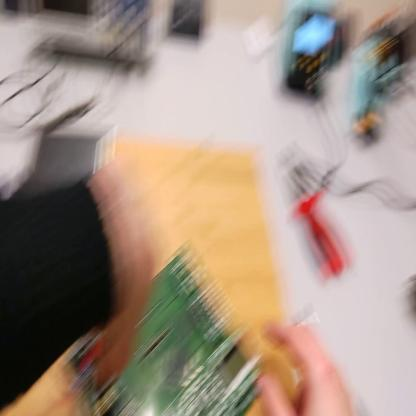hand: (81, 156, 152, 395), (257, 326, 357, 415)
low voltage board: (64, 221, 261, 416), (29, 133, 102, 196)
oscilloscope: (22, 2, 162, 68)
oscilloscope probe tip: (40, 92, 95, 137)
pliers: (279, 155, 346, 281)
socket: (2, 3, 19, 22)
welder base: (348, 10, 412, 141)
welder station: (275, 4, 347, 97)
working area: (2, 148, 280, 415)
